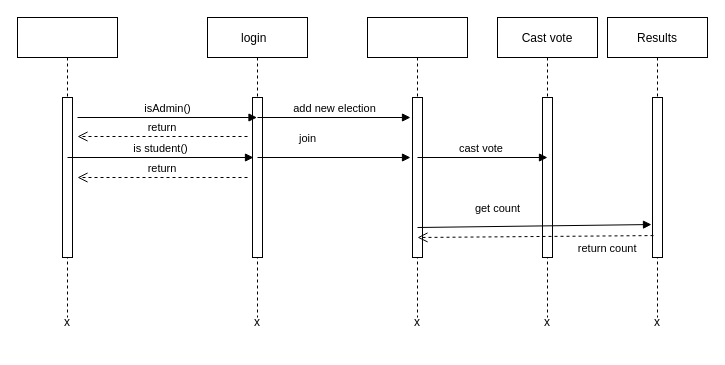
Image size: 725x365. Some labels were removed from this diagram. Each missing label, with the box of its shape:
Election: (366, 16, 468, 318)
user: (16, 16, 118, 318)
